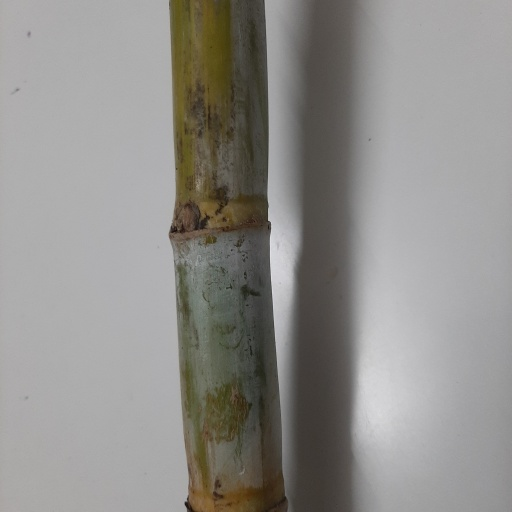Bud: (176, 201, 199, 232)
